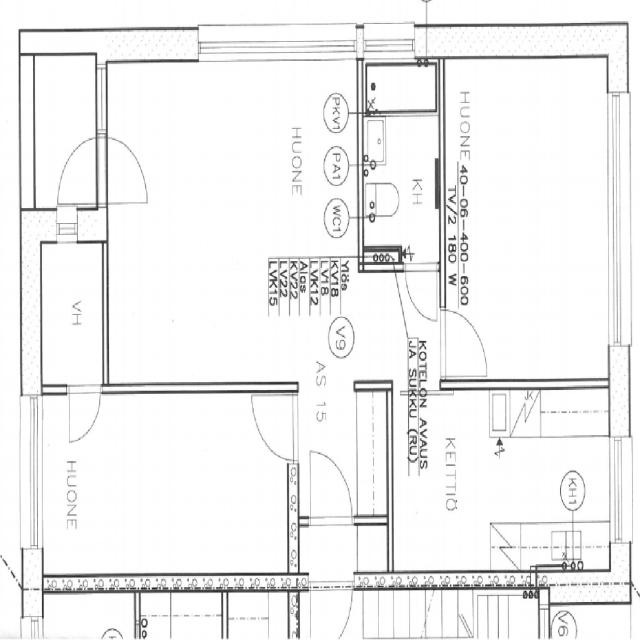door: (248, 387, 302, 466), (305, 444, 356, 524), (105, 127, 151, 205), (54, 131, 99, 210), (65, 381, 103, 446)
window: (607, 92, 625, 350), (607, 433, 629, 550)
zone: (106, 60, 297, 384), (444, 57, 610, 381), (56, 383, 294, 572), (458, 390, 616, 568), (361, 111, 441, 265), (30, 48, 100, 206), (36, 237, 106, 390), (304, 431, 358, 529), (362, 61, 438, 115), (440, 303, 491, 379), (225, 588, 297, 640), (402, 259, 442, 322)
